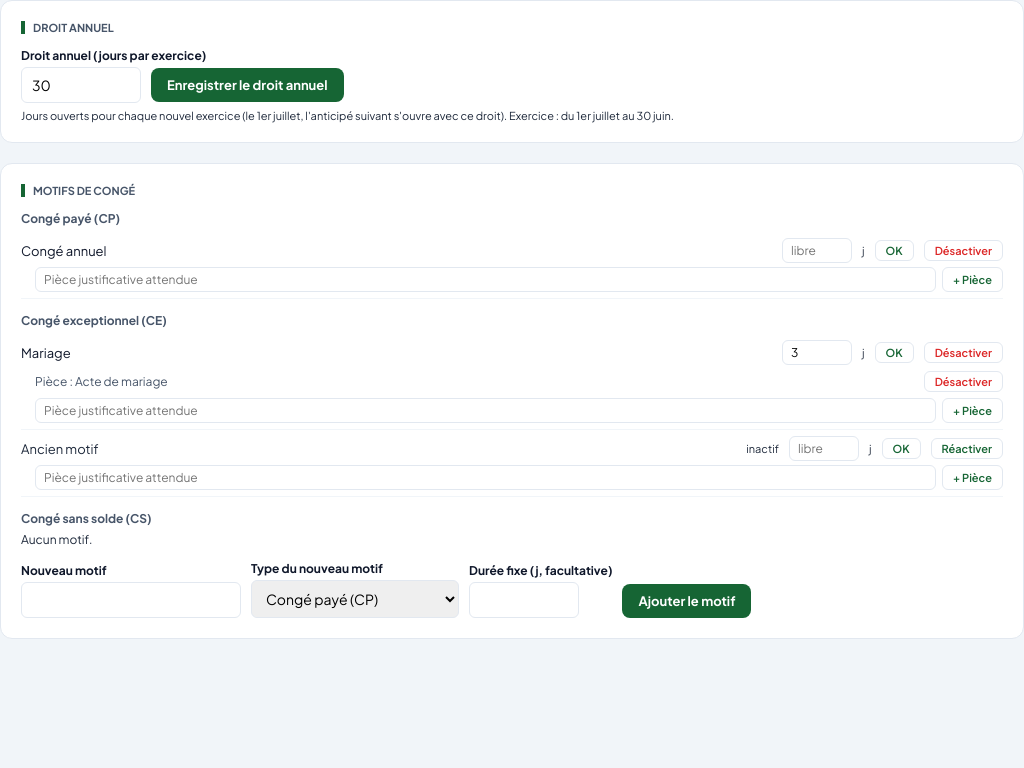
Scenario: CongeParametresPanel — motifs › affiche l'erreur de doublon renvoyée par le serveur
Check: the text "Congé annuel" is shown, box [21,242,107,258]
Type "Mariage" into the field labelled "Nouveau motif" at [131, 600], box [21,582,241,618]
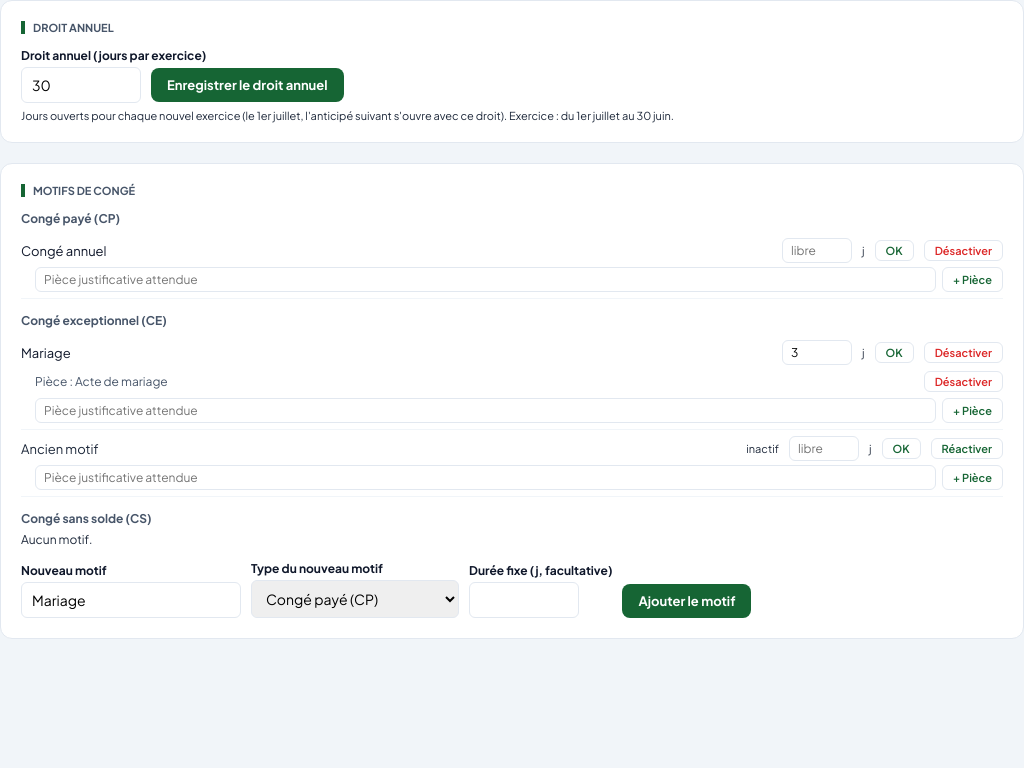
Click the button "Ajouter le motif" at [687, 601], box [622,584,751,618]
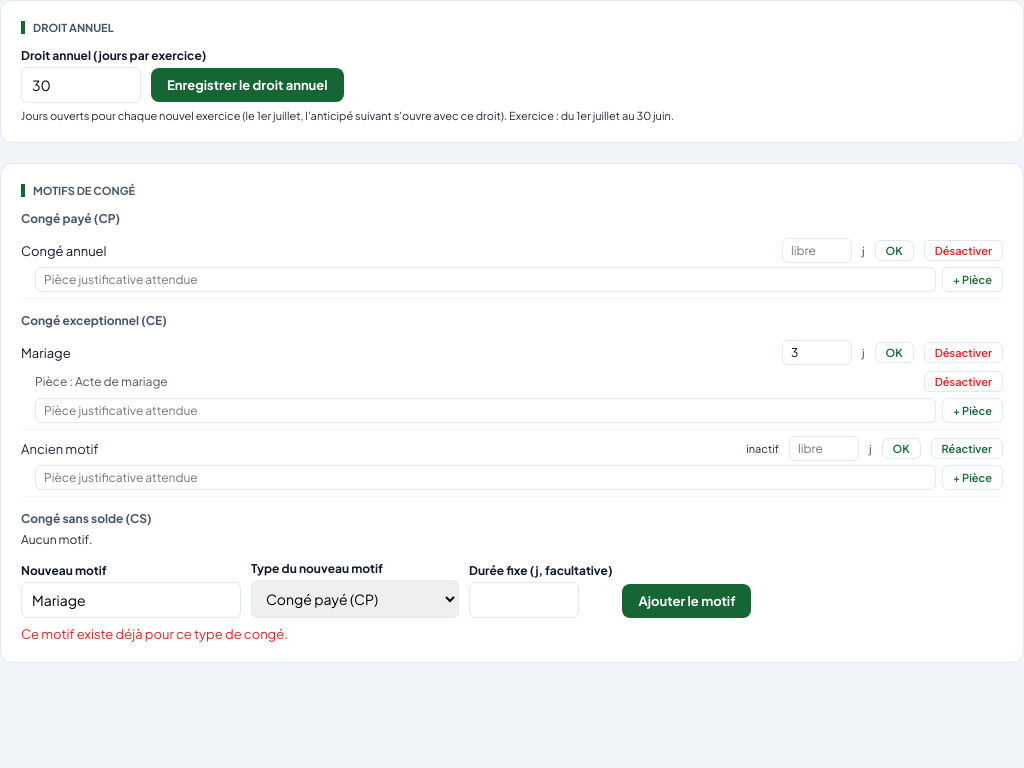
Check: the text "Ce motif existe déjà pour ce type de congé." is shown, box [21,626,288,642]
